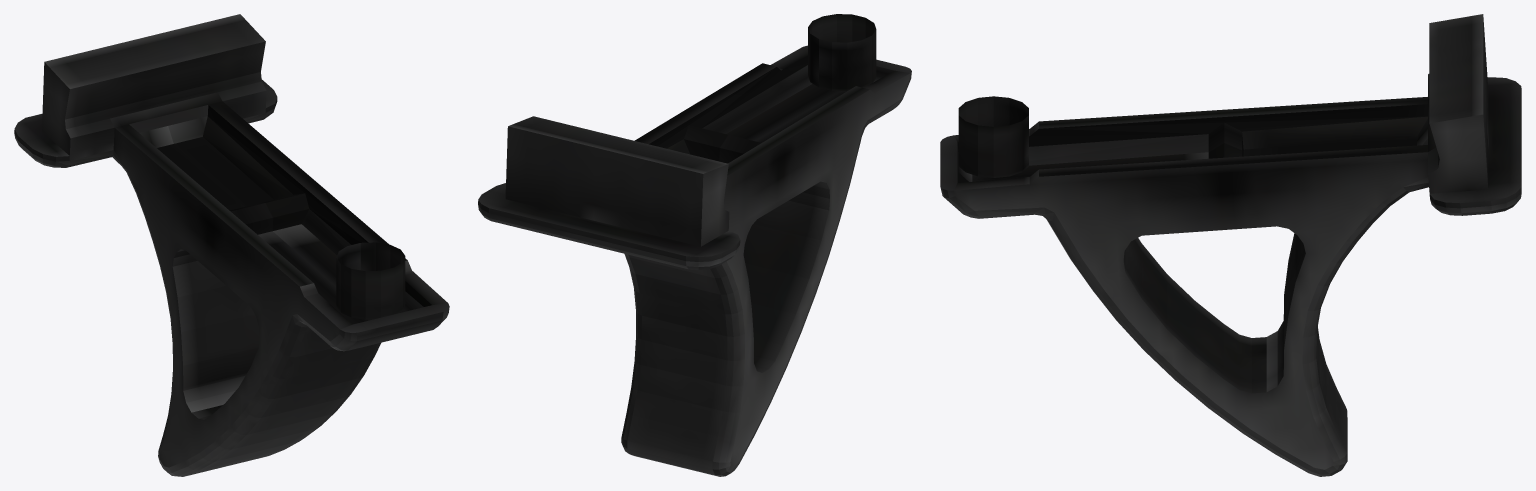
The picture shows the model from 3 angles, left to right: view 1: azimuth 30°, elevation 25°; view 2: azimuth 150°, elevation 25°; view 3: azimuth 270°, elevation 25°; orthographic projection. The views are drawn at different scales.
Visible parts, largest first — view 1: TW_67124dcfa3541f2a1f0e788b_PZ_Import; view 2: TW_67124dcfa3541f2a1f0e788b_PZ_Import; view 3: TW_67124dcfa3541f2a1f0e788b_PZ_Import.
Part boxes in pixels (left/top/right/bottom): TW_67124dcfa3541f2a1f0e788b_PZ_Import: left=14, top=14, right=449, bottom=476; TW_67124dcfa3541f2a1f0e788b_PZ_Import: left=478, top=14, right=911, bottom=476; TW_67124dcfa3541f2a1f0e788b_PZ_Import: left=940, top=14, right=1521, bottom=476.
Bounding box in the file's own units: 0.0125 × 0.0249 × 0.0184.
1 material, 1 textured.
